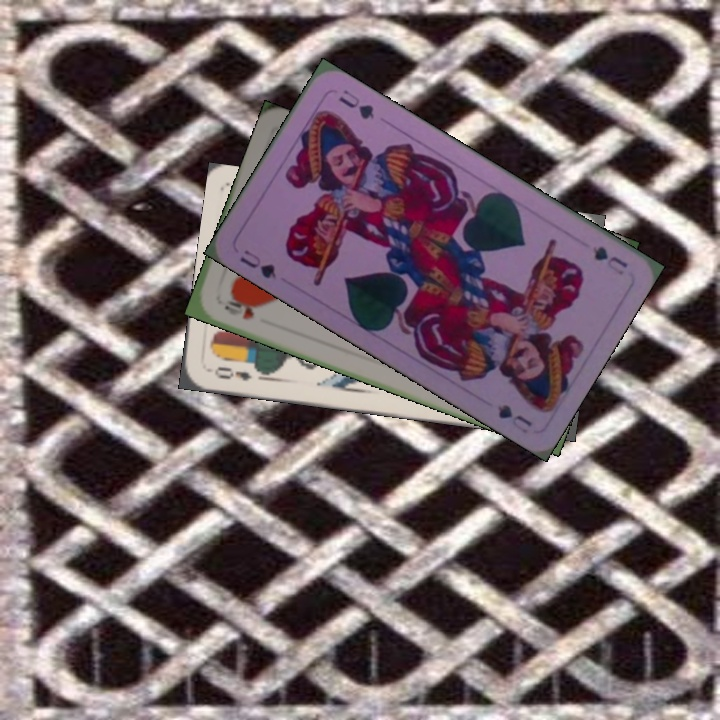EO: (210, 362, 254, 384)
GU: (588, 241, 631, 278), (236, 245, 279, 281)
HO: (219, 294, 257, 323)
